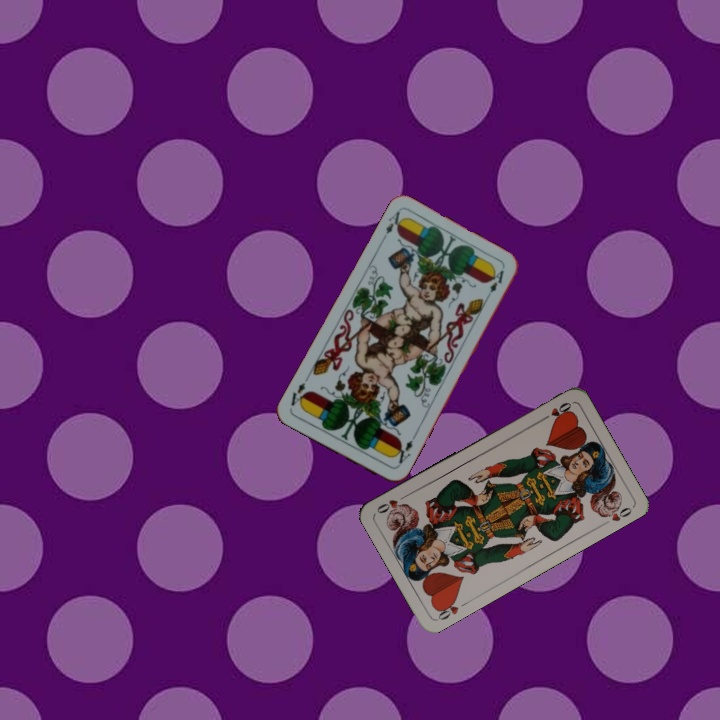EA: (390, 436, 415, 468), (382, 207, 407, 237)
HO: (537, 398, 574, 424), (432, 595, 461, 623)
